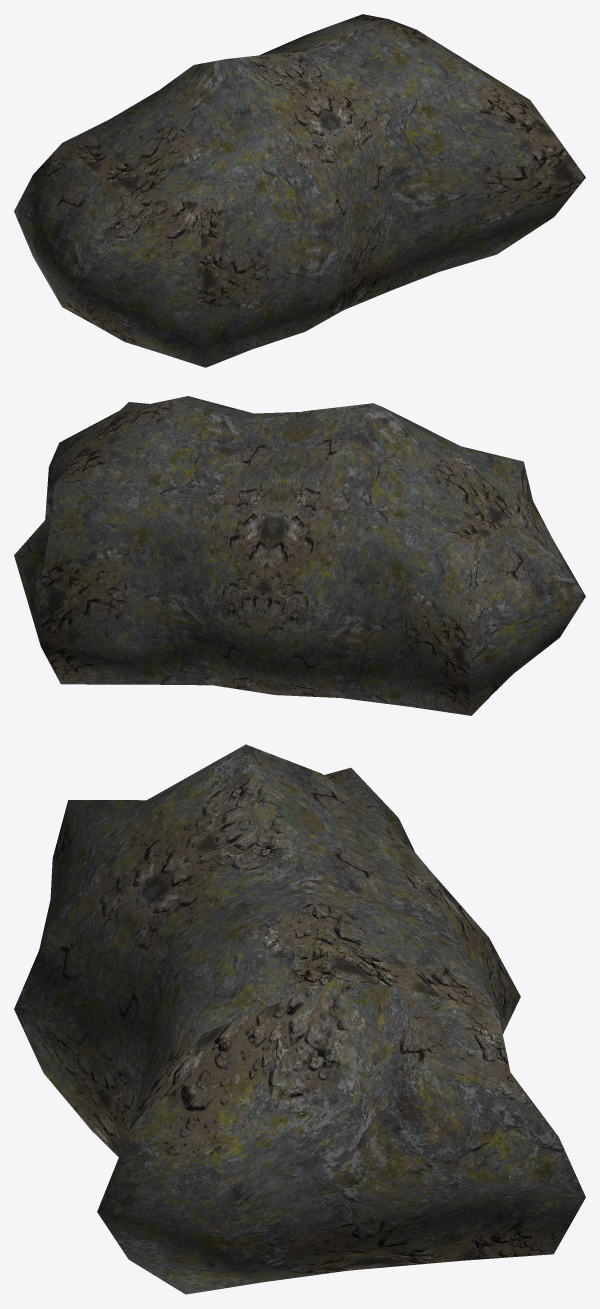
File: Rock01.fbx
3 renders of one model, top to bottom at view 1: azimuth 30°, elevation 25°; view 2: azimuth 150°, elevation 25°; view 3: azimuth 270°, elevation 25°, orthographic. The views are drawn at different scales.
Visible parts, largest first — view 1: Rock01; view 2: Rock01; view 3: Rock01.
Part boxes in pixels (<box>): Rock01: <box>14,14,585,367</box>; Rock01: <box>14,396,585,715</box>; Rock01: <box>14,744,585,1294</box>.
Bounding box in the file's own units: 110 × 51.19 × 72.68.
